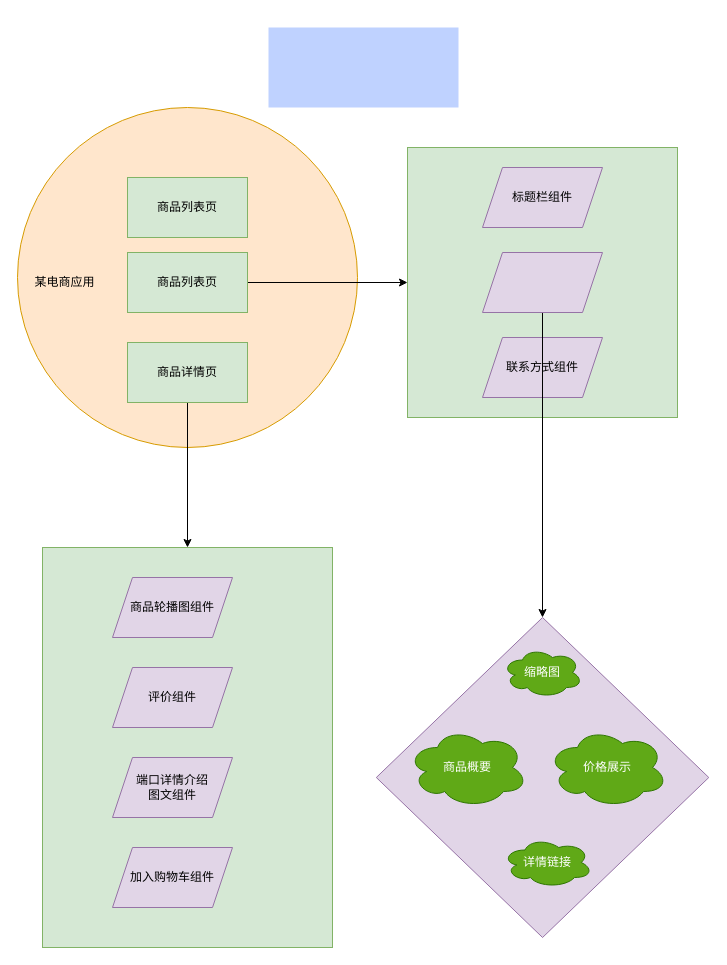
Image size: 727x965. Some labels were removed from this diagram. The centre of each missing label's shape, as x and y in pixels:
列表组件: (542,282)
组件 组件是页面中不可分的逻辑单元: (363,67)
